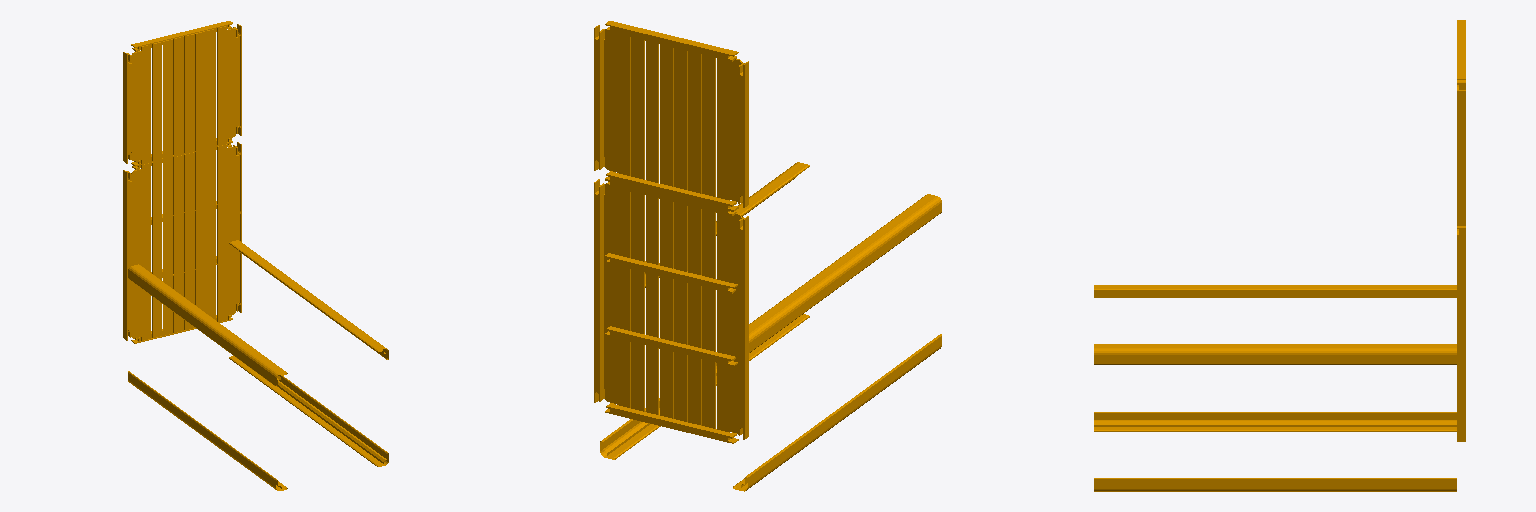
The robot description file, URDF, robot "pallet_rack":
<?xml version="1.0"?>
<robot name="pallet_rack">

  <material name="rack_blue"><color rgba="0.0 0.2 0.6 1.0"/></material>
  <material name="rack_orange"><color rgba="1.0 0.4 0.0 1.0"/></material>

  <link name="rack_base">
    
    <inertial>
      <mass value="100.0"/>
      <origin xyz="0 0 0.1" rpy="0 0 0"/>
      <inertia ixx="45.0" ixy="0.0" ixz="0.0" iyy="45.0" iyz="0.0" izz="5.0"/>
    </inertial>

    <visual><origin xyz="0 0 0" rpy="0 0 0"/><geometry><mesh filename="poll1.dae"/></geometry></visual>
    <collision><origin xyz="0 0 0" rpy="0 0 0"/><geometry><mesh filename="poll1.dae"/></geometry></collision>

    <visual><origin xyz="0 0 0" rpy="0 0 0"/><geometry><mesh filename="poll2.dae"/></geometry></visual>
    <collision><origin xyz="0 0 0" rpy="0 0 0"/><geometry><mesh filename="poll2.dae"/></geometry></collision>

    <visual><origin xyz="0 0 0" rpy="0 0 0"/><geometry><mesh filename="poll3.dae"/></geometry></visual>
    <collision><origin xyz="0 0 0" rpy="0 0 0"/><geometry><mesh filename="poll3.dae"/></geometry></collision>

    <visual><origin xyz="0 0 0" rpy="0 0 0"/><geometry><mesh filename="poll4.dae"/></geometry></visual>
    <collision><origin xyz="0 0 0" rpy="0 0 0"/><geometry><mesh filename="poll4.dae"/></geometry></collision>

    <visual><origin xyz="0 0 0.4" rpy="0 0 0"/><geometry><mesh filename="base1.dae"/></geometry></visual>
    <collision><origin xyz="0 0 0.4" rpy="0 0 0"/><geometry><mesh filename="base1.dae"/></geometry></collision>
    <visual><origin xyz="0 0 0.4" rpy="0 0 0"/><geometry><mesh filename="base2.dae"/></geometry></visual>
    <collision><origin xyz="0 0 0.4" rpy="0 0 0"/><geometry><mesh filename="base2.dae"/></geometry></collision>

    <visual><origin xyz="0 0 1.0" rpy="0 0 0"/><geometry><mesh filename="base1.dae"/></geometry></visual>
    <collision><origin xyz="0 0 1.0" rpy="0 0 0"/><geometry><mesh filename="base1.dae"/></geometry></collision>
    <visual><origin xyz="0 0 1.0" rpy="0 0 0"/><geometry><mesh filename="base2.dae"/></geometry></visual>
    <collision><origin xyz="0 0 1.0" rpy="0 0 0"/><geometry><mesh filename="base2.dae"/></geometry></collision>

    <visual><origin xyz="0 0 2.2" rpy="0 0 0"/><geometry><mesh filename="base1.dae"/></geometry></visual>
    <collision><origin xyz="0 0 2.2" rpy="0 0 0"/><geometry><mesh filename="base1.dae"/></geometry></collision>
    <visual><origin xyz="0 0 2.2" rpy="0 0 0"/><geometry><mesh filename="base2.dae"/></geometry></visual>
    <collision><origin xyz="0 0 2.2" rpy="0 0 0"/><geometry><mesh filename="base2.dae"/></geometry></collision>

  </link>
</robot>

--- Render facts (derived) ---
Views: 3 orthographic renders of the robot side by side, from view 1: azimuth 30°, elevation 25°; view 2: azimuth 150°, elevation 25°; view 3: azimuth 270°, elevation 25°.
Model pallet_rack with 1 links and 0 joints (none), rooted at rack_base, posed all joints at 0.
Links seen in each view (by area): view 1: rack_base; view 2: rack_base; view 3: rack_base.
Link boxes in pixels (<box>): rack_base: <box>123,21,388,490</box>; rack_base: <box>594,21,941,491</box>; rack_base: <box>1094,20,1465,491</box>.
Bounding box of the posed robot: 1.22 × 2.8 × 3.4 m (x, y, z).
Meshes: 6 distinct files referenced, 10 mesh visuals loaded (6 Collada DAE).
